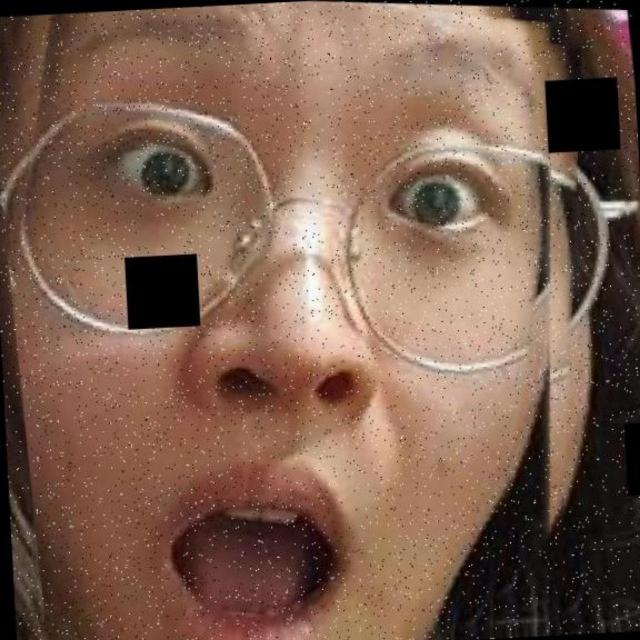Surprised: (49, 14, 529, 629)
